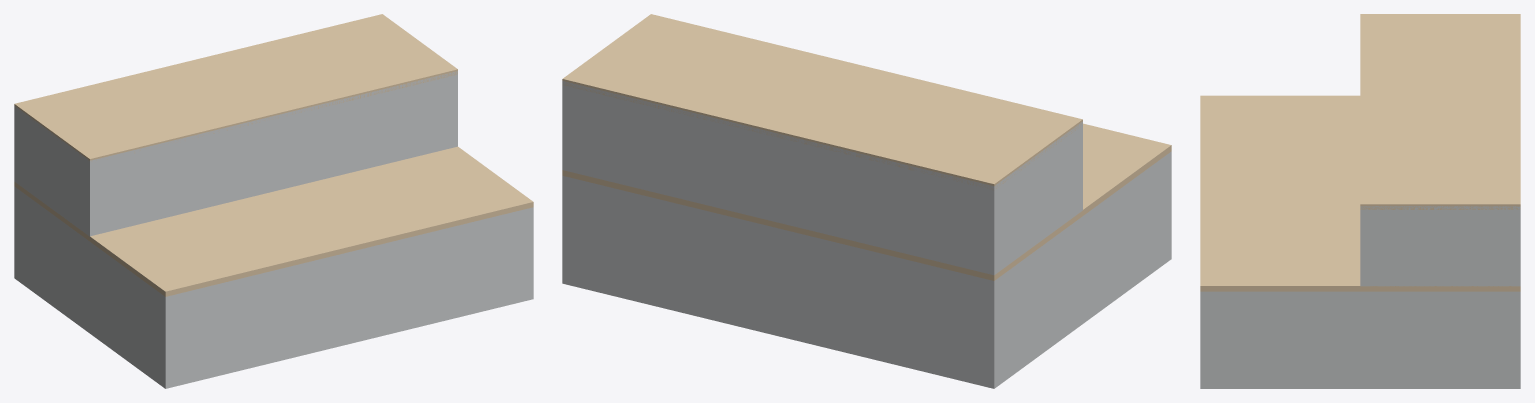
3 renders of one model, left to right at view 1: azimuth 30°, elevation 25°; view 2: azimuth 150°, elevation 25°; view 3: azimuth 270°, elevation 25°, orthographic. The views are drawn at different scales.
Size of the model in its own units: 1.8 by 0.8155 by 1.28.
